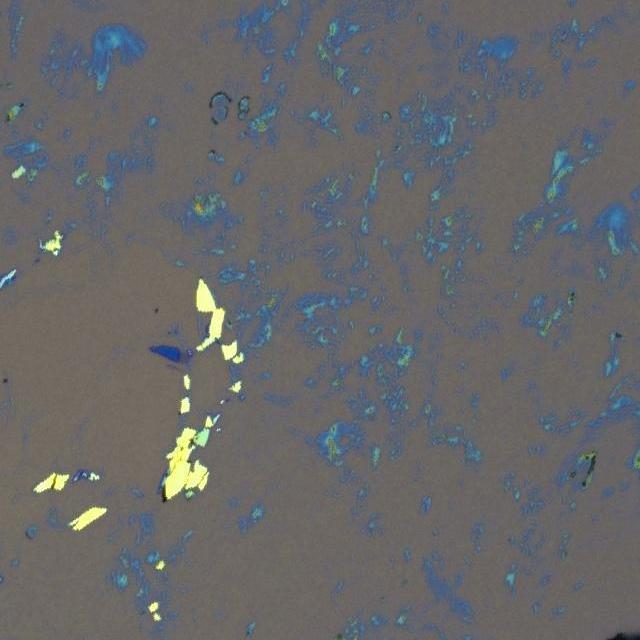monolayer-eWW4: (180, 352, 189, 364)
